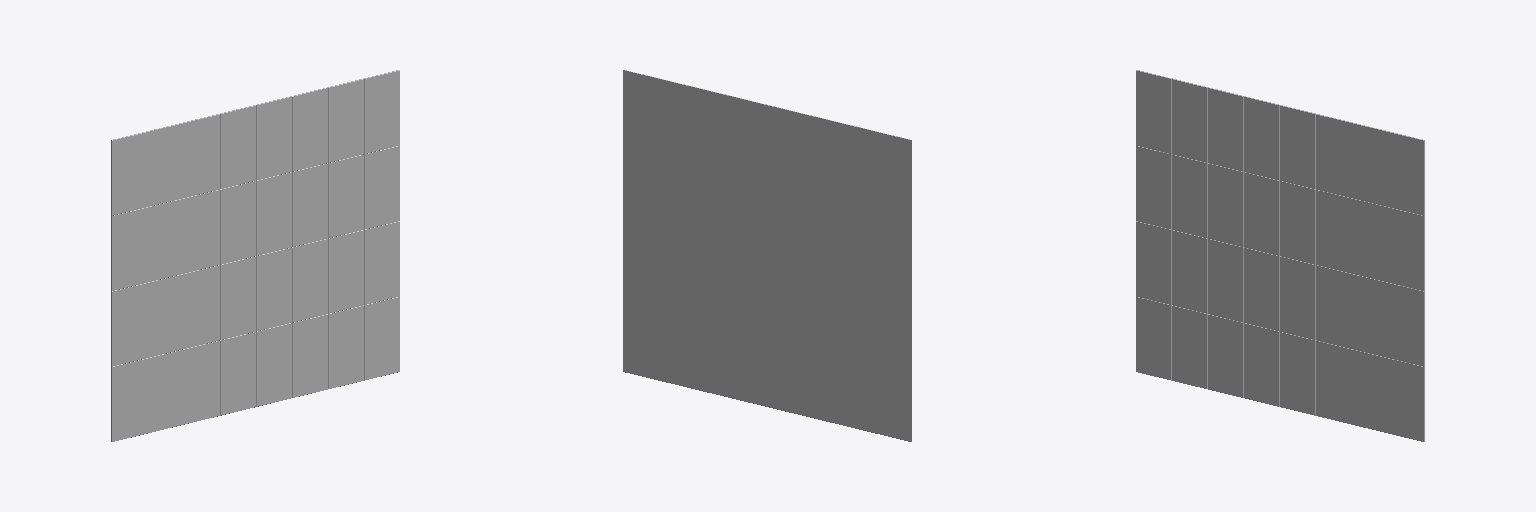
Rendered from uploads_files_2201703_seramik2.obj.
3 renders of one model, left to right at view 1: azimuth 30°, elevation 25°; view 2: azimuth 150°, elevation 25°; view 3: azimuth 330°, elevation 25°, orthographic.
Parts seen in each view (by area): view 1: Box235, Box213, Box219, Box216, Box231, Box232, Box206, Box233, Box234, Box236, Box237, Box225 (+20 smaller); view 2: Box232, Box226, Box210, Box221, Box206, Box233, Box237, Box231, Box234, Box235, Box236, Box212 (+20 smaller); view 3: Box233, Box222, Box228, Box208, Box231, Box232, Box206, Box234, Box235, Box236, Box237, Box207 (+20 smaller).
Boxes of the visible parts, box(x1,y1,x2,y2) form: Box235: box(111, 131, 147, 215); Box213: box(111, 358, 147, 441); Box219: box(111, 207, 147, 290); Box216: box(111, 283, 147, 366); Box231: box(148, 122, 183, 206); Box232: box(328, 78, 363, 162); Box206: box(292, 87, 327, 171); Box233: box(364, 70, 399, 153); Box234: box(220, 105, 255, 188); Box236: box(184, 114, 219, 197); Box237: box(256, 96, 291, 180); Box225: box(256, 323, 291, 406); Box232: box(659, 79, 695, 162); Box226: box(659, 154, 695, 238); Box210: box(659, 305, 695, 389); Box221: box(659, 230, 695, 313); Box206: box(696, 87, 731, 171); Box233: box(623, 70, 659, 153); Box237: box(732, 96, 767, 180); Box231: box(840, 123, 875, 206); Box234: box(768, 105, 803, 189); Box235: box(876, 131, 911, 215); Box236: box(804, 114, 839, 197); Box212: box(840, 349, 875, 433); Box233: box(1388, 131, 1424, 215); Box222: box(1388, 358, 1424, 441); Box228: box(1388, 207, 1424, 290); Box208: box(1388, 283, 1424, 366); Box231: box(1172, 78, 1207, 162); Box232: box(1352, 122, 1387, 206); Box206: box(1316, 114, 1351, 197); Box234: box(1244, 96, 1279, 180); Box235: box(1136, 70, 1171, 153); Box236: box(1208, 87, 1243, 171); Box237: box(1280, 105, 1315, 188); Box207: box(1244, 323, 1279, 406).
Size of the model in its own units: 2400 by 2400 by 10.